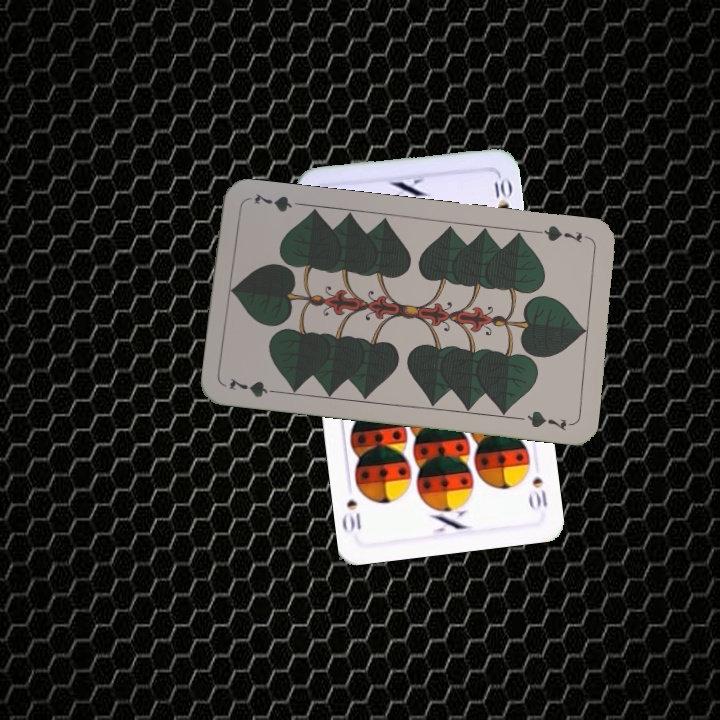G7: (225, 374, 284, 400), (534, 221, 593, 245)
S10: (525, 473, 550, 513)
